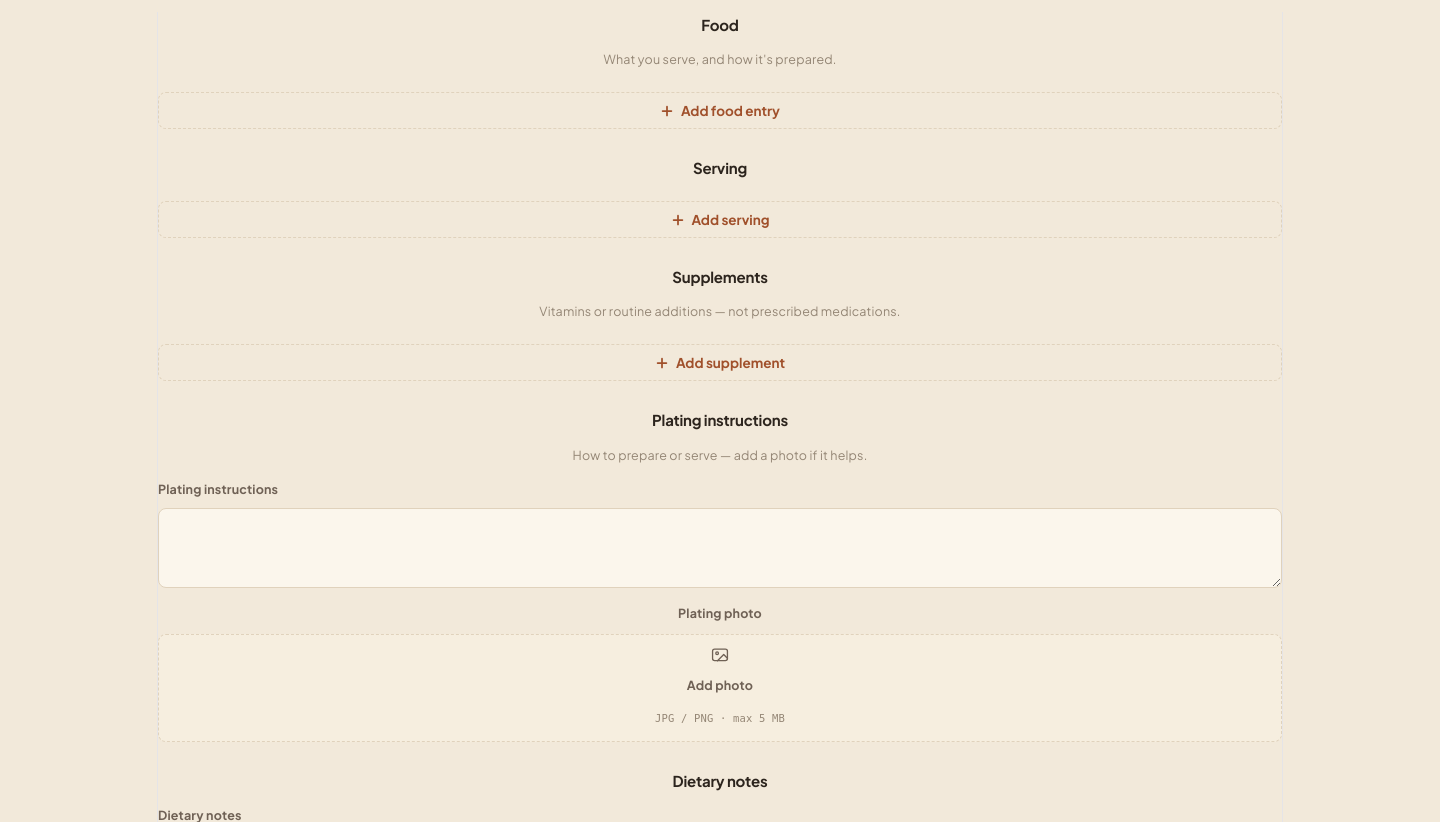
Test: FeedingStep food entries › clicking remove on a food entry removes that row
Step 1. Click the button "Add food entry" → click(720, 111), box [158,92,1282,129]
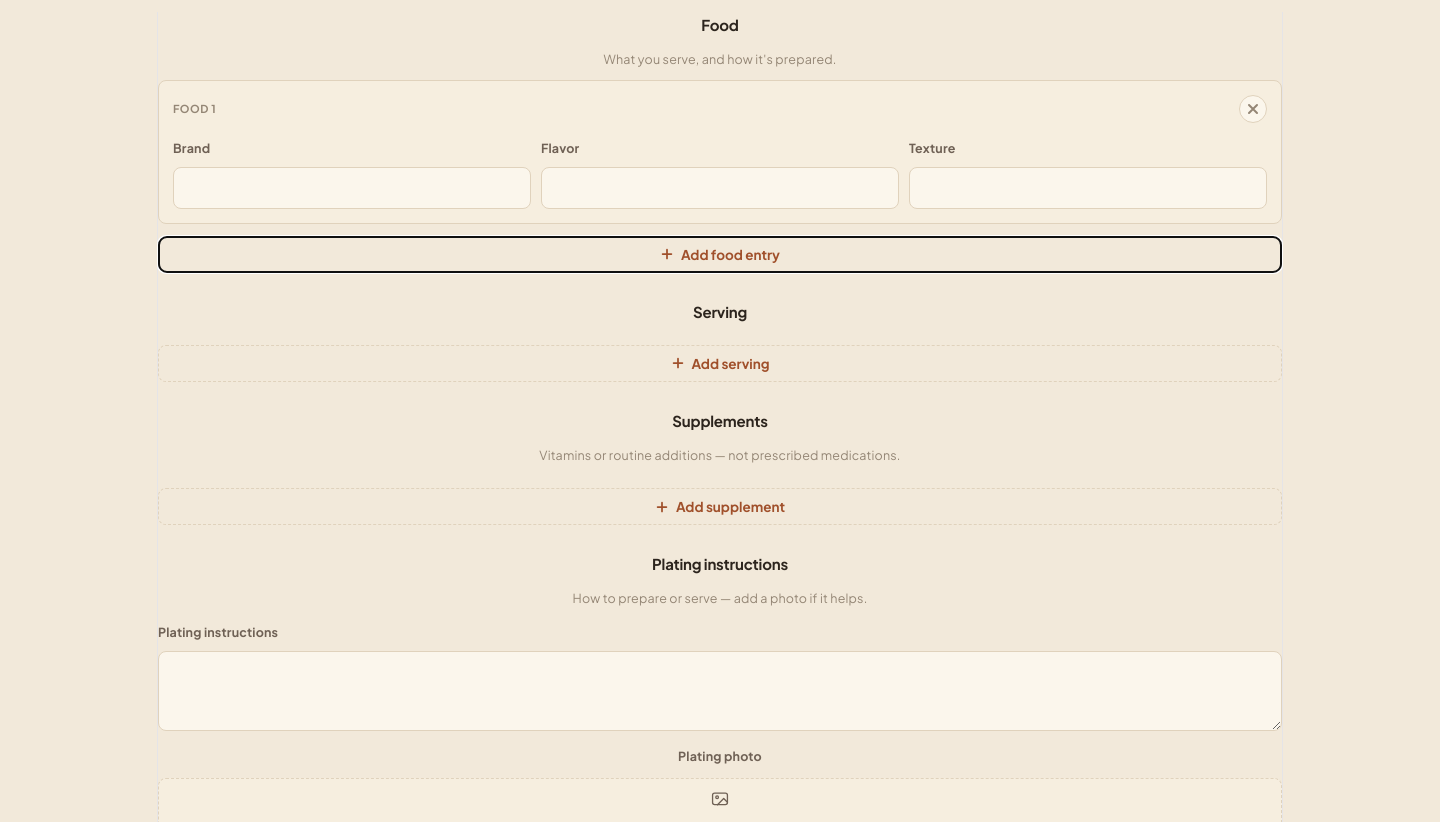
Step 2. Click the button named "remove food entry" → click(1253, 109), box [1239,95,1267,123]
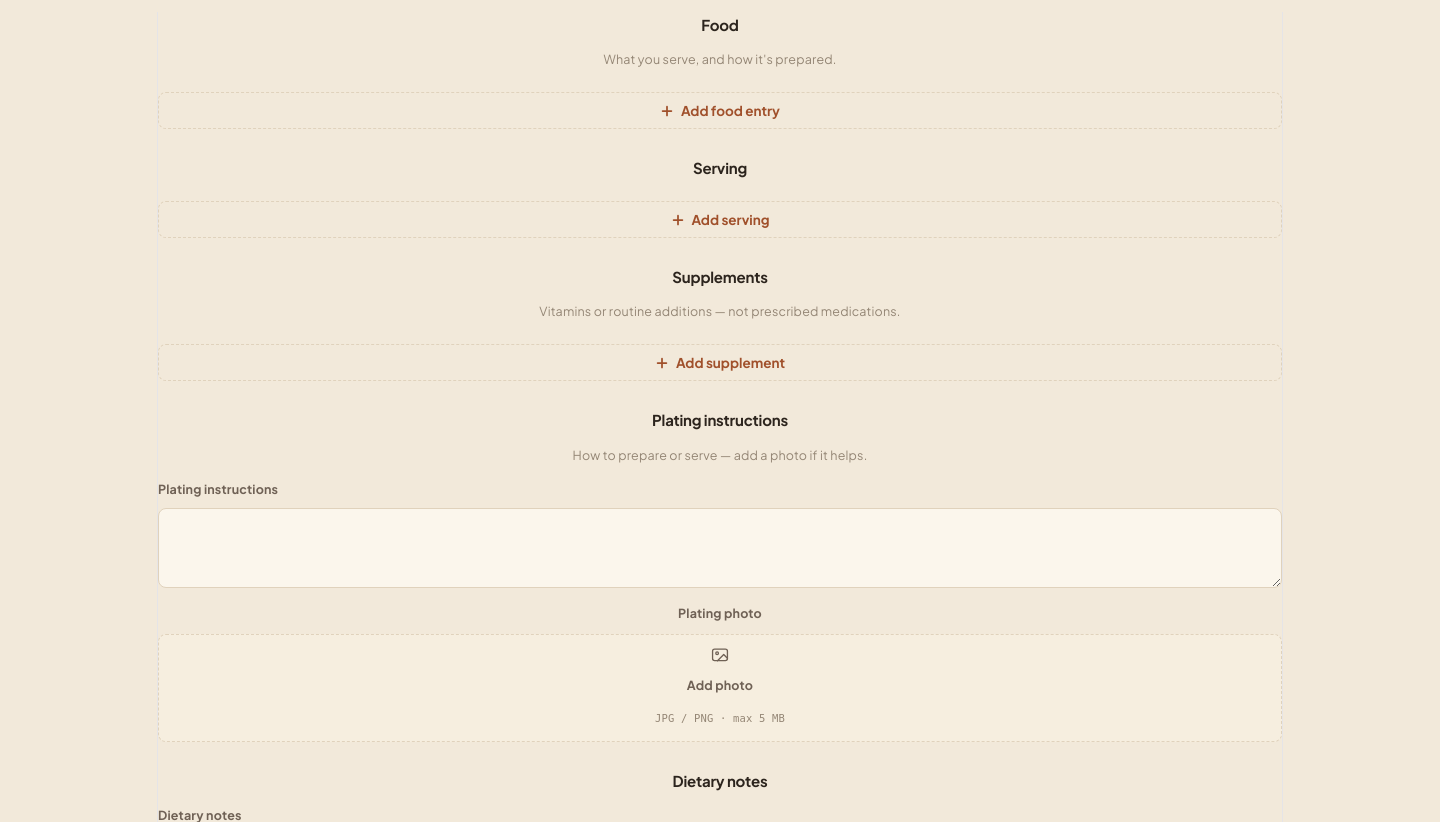
expect the text labelled "Brand" is gone: met
